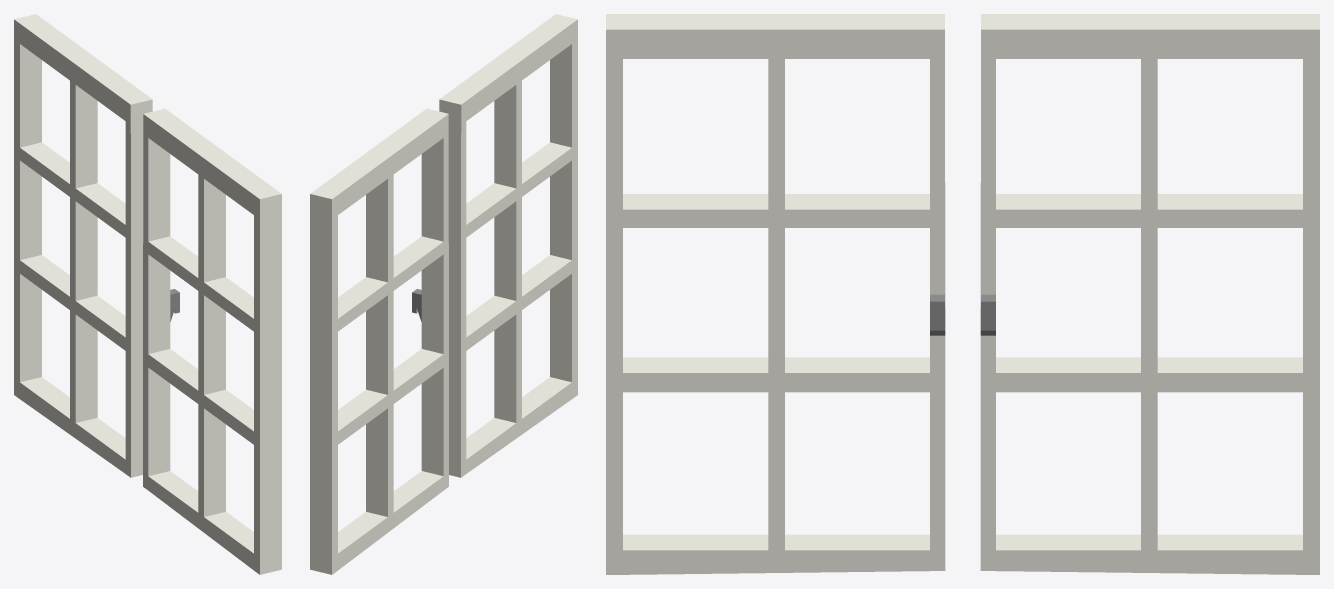
Rendered from WindowDoor.fbx.
3 renders of one model, left to right at view 1: azimuth 30°, elevation 25°; view 2: azimuth 150°, elevation 25°; view 3: azimuth 270°, elevation 25°, orthographic. The views are drawn at different scales.
Parts seen in each view (by area): view 1: pCube4, pCube5; view 2: pCube5, pCube4; view 3: pCube4, pCube5.
Boxes of the visible parts, box(x1,y1,x2,y2) form: pCube4: box(143, 108, 281, 574); pCube5: box(14, 14, 152, 477); pCube5: box(310, 108, 448, 574); pCube4: box(439, 14, 577, 477); pCube4: box(606, 14, 945, 574); pCube5: box(980, 14, 1319, 574).
Bounding box in the file's own units: 1.44 × 16.34 × 19.38.
